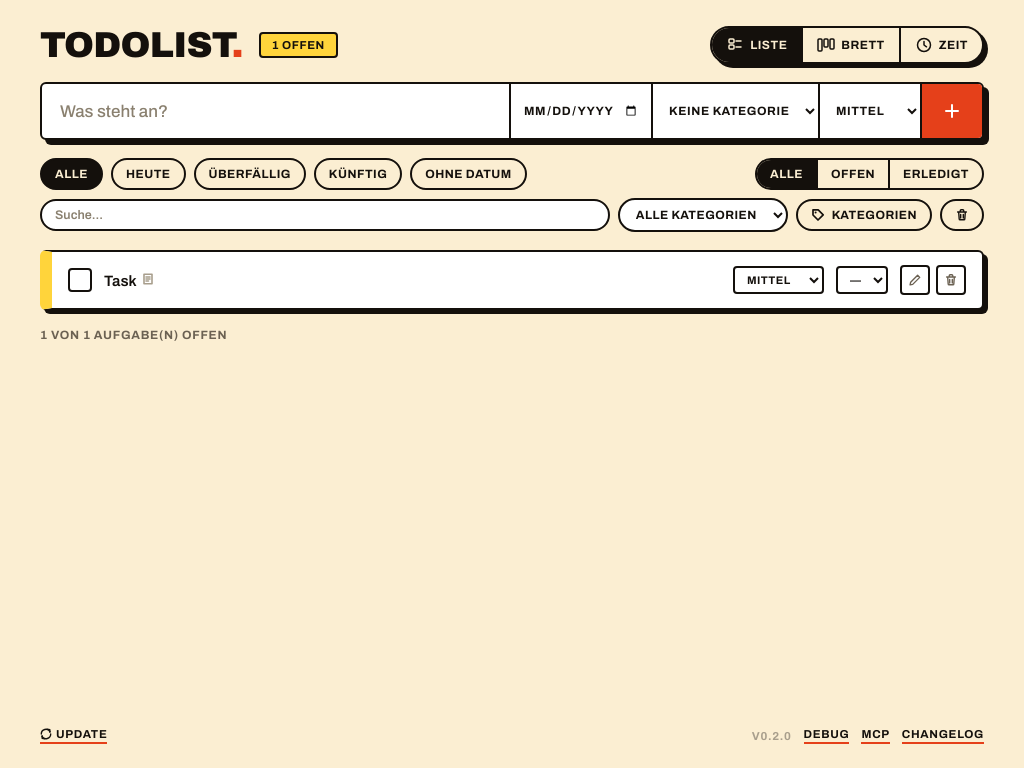
Scenario: App › previews the description on the kanban card
Expected: the text "Task" is shown, [104, 272, 155, 288]
Click the button with aria-label "Zur Ansicht Brett wechseln" at (850,45), box [801, 28, 899, 62]
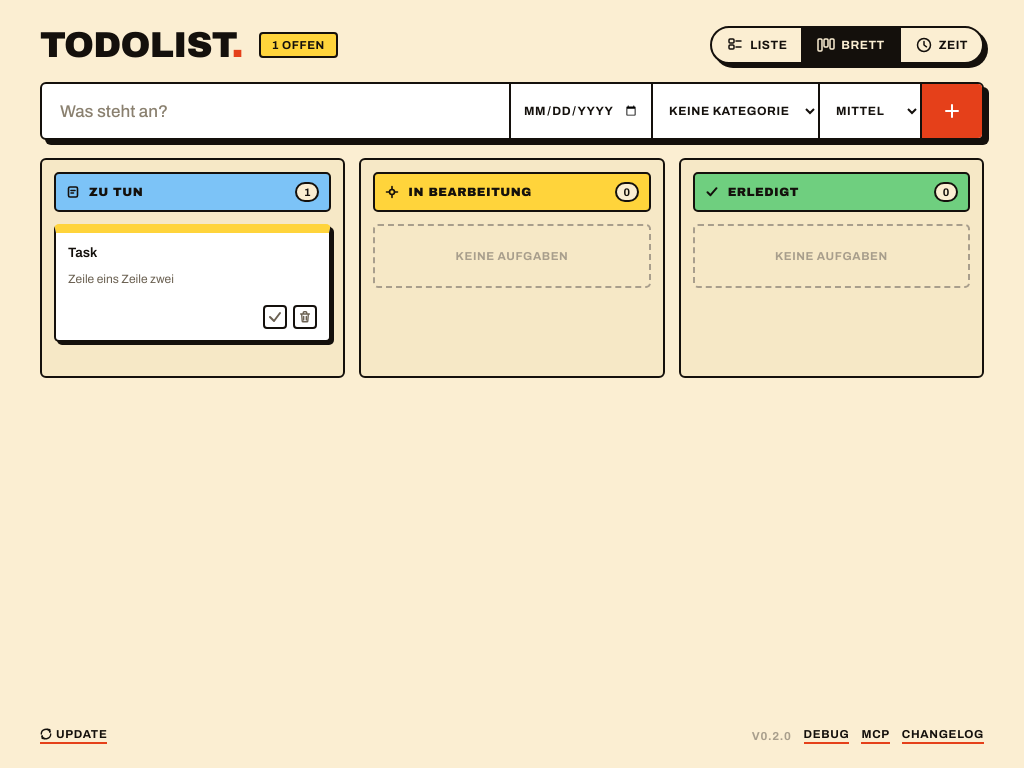
Result: the text "Zeile eins Zeile zwei" is shown at [68, 272, 174, 286]
